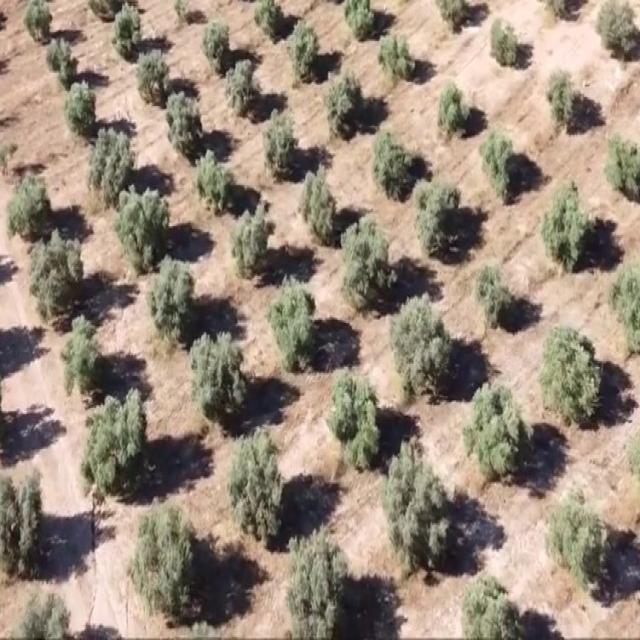trees: (381, 440, 455, 570), (79, 377, 154, 504), (284, 516, 355, 640), (134, 495, 206, 615), (226, 424, 291, 535), (462, 373, 529, 479), (190, 312, 250, 429), (538, 319, 603, 418), (392, 286, 453, 389), (28, 226, 92, 324), (327, 362, 386, 466), (535, 177, 600, 270), (551, 482, 616, 574), (114, 178, 175, 276), (342, 211, 396, 313), (0, 454, 43, 578), (458, 566, 529, 640), (268, 274, 322, 369), (413, 172, 467, 261), (8, 161, 58, 255), (150, 252, 198, 348), (86, 124, 139, 210), (57, 304, 104, 396), (233, 192, 275, 280), (374, 123, 416, 206), (375, 22, 424, 91), (324, 58, 365, 139), (302, 164, 344, 243), (470, 256, 516, 326), (163, 85, 207, 154), (481, 132, 522, 203), (287, 13, 324, 89), (61, 76, 103, 139), (546, 64, 586, 130), (195, 143, 231, 216), (594, 0, 640, 55), (264, 109, 299, 180), (436, 82, 477, 142), (43, 34, 83, 92), (136, 44, 174, 104), (226, 55, 262, 116), (108, 1, 146, 58), (608, 126, 640, 192), (203, 10, 233, 80), (487, 18, 524, 73), (20, 0, 61, 48)
